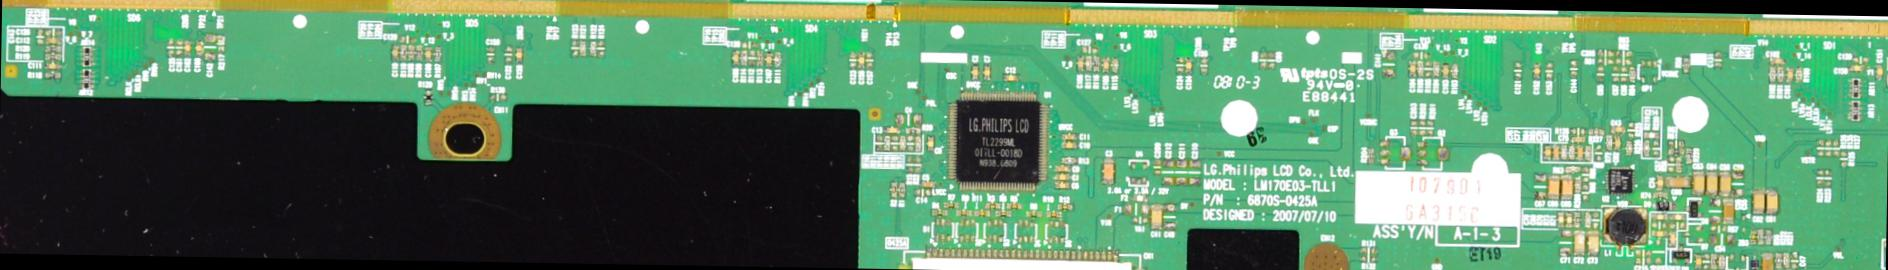Capacitor Jumper: (1765, 190, 1778, 215), (1587, 229, 1599, 256), (1752, 188, 1764, 213), (1693, 171, 1705, 195), (1719, 171, 1731, 195), (1723, 199, 1735, 223), (1103, 158, 1114, 184), (1151, 204, 1162, 229), (1574, 230, 1585, 256), (1707, 171, 1718, 195), (1548, 176, 1559, 200), (1562, 176, 1573, 200), (1665, 178, 1691, 188), (1762, 252, 1772, 269), (1569, 60, 1576, 77), (1409, 60, 1416, 76), (196, 40, 203, 55), (1556, 212, 1563, 228), (1792, 253, 1799, 269), (1605, 59, 1623, 65), (1611, 125, 1626, 133), (859, 52, 865, 69), (972, 64, 978, 81), (1427, 119, 1433, 136), (1606, 49, 1623, 55), (1546, 63, 1552, 78), (1533, 64, 1539, 80), (488, 46, 494, 61), (984, 64, 990, 80), (1004, 75, 1020, 81), (45, 61, 60, 67), (1061, 134, 1076, 140), (1544, 145, 1550, 160), (1062, 142, 1078, 148), (927, 136, 933, 152), (1055, 165, 1070, 171), (1657, 175, 1663, 190), (1055, 174, 1070, 180), (1054, 182, 1069, 188), (1567, 212, 1573, 228), (1715, 52, 1721, 67), (399, 35, 414, 41), (46, 37, 61, 43), (1078, 55, 1084, 70), (1514, 64, 1520, 78), (732, 51, 738, 65), (517, 47, 523, 61), (766, 53, 772, 67), (1410, 121, 1416, 135), (885, 127, 899, 133), (1613, 135, 1619, 149), (1577, 146, 1583, 160), (921, 182, 936, 188), (1652, 213, 1666, 219), (1626, 49, 1632, 64), (1598, 51, 1604, 65), (1770, 59, 1784, 65), (1420, 121, 1424, 137), (1442, 63, 1449, 76), (1621, 67, 1627, 81), (1573, 136, 1586, 142), (1553, 145, 1559, 158), (1670, 215, 1683, 221), (1186, 58, 1191, 74), (393, 45, 397, 60), (185, 41, 190, 55), (1104, 57, 1109, 71), (506, 48, 511, 63), (1598, 67, 1603, 82), (1613, 67, 1618, 82), (426, 47, 431, 61), (1652, 231, 1666, 236), (1669, 231, 1674, 246), (1848, 66, 1863, 71), (1876, 66, 1881, 81), (1787, 67, 1792, 81), (1695, 254, 1700, 268), (1853, 58, 1866, 63)
Connector: (903, 247, 1145, 269)
IC: (948, 89, 1048, 193), (1606, 165, 1635, 194)
Resistor Jumper: (488, 93, 505, 101), (1258, 52, 1267, 69), (424, 89, 431, 105), (1666, 155, 1674, 171), (1367, 148, 1374, 163), (1711, 254, 1718, 269), (1628, 122, 1634, 139), (1824, 170, 1830, 187), (1588, 129, 1604, 135), (1817, 140, 1823, 155), (877, 134, 883, 149), (892, 136, 898, 152), (890, 183, 896, 199), (1585, 211, 1591, 227), (1750, 228, 1756, 243), (1645, 250, 1651, 265), (1783, 252, 1789, 268), (1769, 67, 1775, 82), (1795, 67, 1801, 82), (415, 46, 421, 60), (1585, 145, 1591, 159), (1569, 146, 1575, 160), (1817, 171, 1823, 186), (898, 183, 904, 198), (1765, 229, 1771, 243), (1370, 247, 1376, 262), (1703, 254, 1709, 269), (1682, 58, 1688, 72), (899, 135, 904, 152), (1570, 128, 1583, 134), (1582, 177, 1588, 190), (932, 210, 945, 216), (401, 45, 406, 60), (1825, 140, 1830, 155), (1597, 146, 1601, 162), (985, 204, 1001, 209), (1575, 212, 1580, 228), (1026, 211, 1042, 216), (1362, 247, 1367, 263), (1269, 52, 1274, 67), (1777, 67, 1782, 82), (1629, 67, 1634, 82), (435, 47, 439, 61), (1606, 135, 1611, 149), (1562, 145, 1567, 159), (1676, 158, 1681, 172), (1565, 168, 1580, 172), (944, 202, 958, 207), (1008, 204, 1022, 209), (956, 210, 970, 215), (1652, 223, 1666, 228), (974, 211, 989, 216), (1758, 230, 1763, 245), (1776, 253, 1781, 268), (1719, 254, 1724, 269), (408, 46, 413, 59), (1627, 141, 1632, 154), (1686, 149, 1691, 163), (1840, 152, 1845, 165), (1575, 178, 1580, 192), (996, 211, 1009, 216), (1635, 250, 1640, 263), (916, 135, 920, 152), (905, 129, 921, 133), (884, 135, 887, 151), (1652, 194, 1668, 198), (1834, 142, 1837, 155), (1670, 224, 1683, 228)
